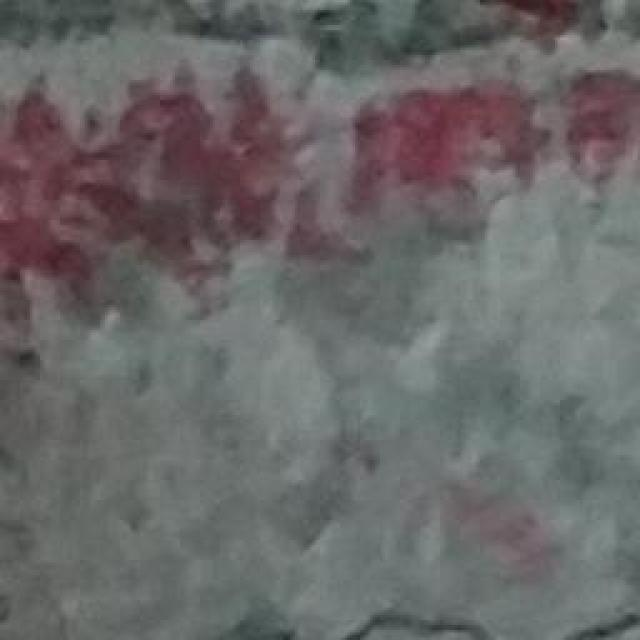Transverse: (0, 0, 640, 103), (222, 568, 640, 640)
